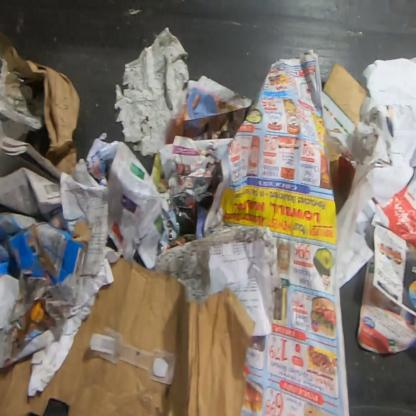cardboard: (0, 256, 257, 415), (0, 213, 92, 370), (5, 35, 81, 178), (321, 60, 369, 134), (325, 142, 356, 218)
